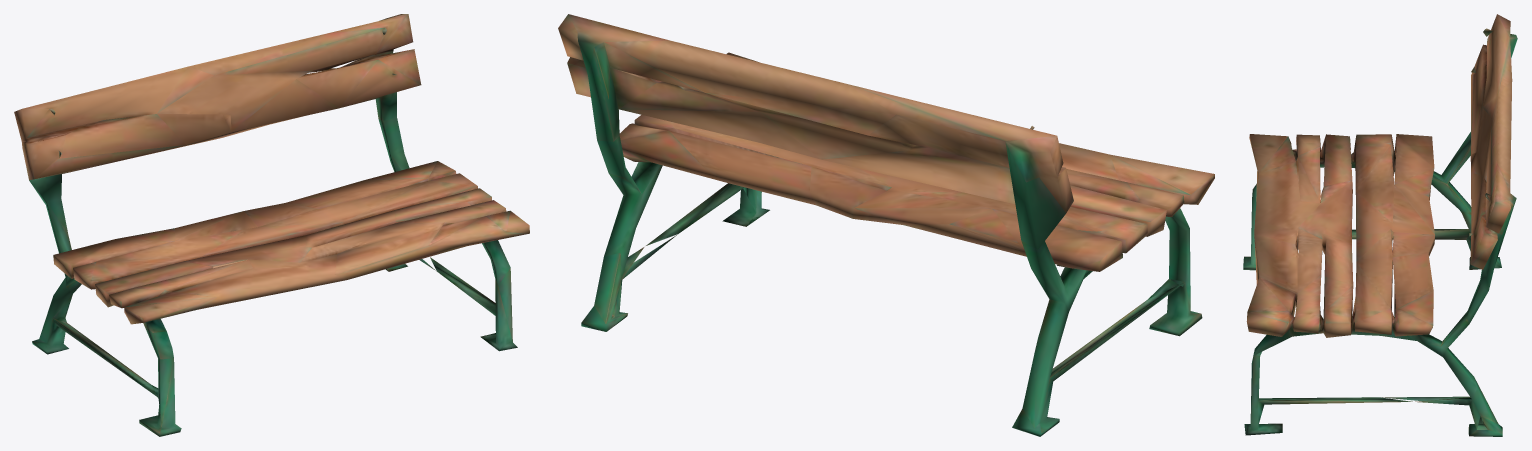
File: prop3d-bench.glb
The picture shows the model from 3 angles, left to right: view 1: azimuth 30°, elevation 25°; view 2: azimuth 150°, elevation 25°; view 3: azimuth 270°, elevation 25°; orthographic projection. The views are drawn at different scales.
Bounding box in the file's own units: 2 × 1.19 × 1.22.
1 material, 1 textured.
